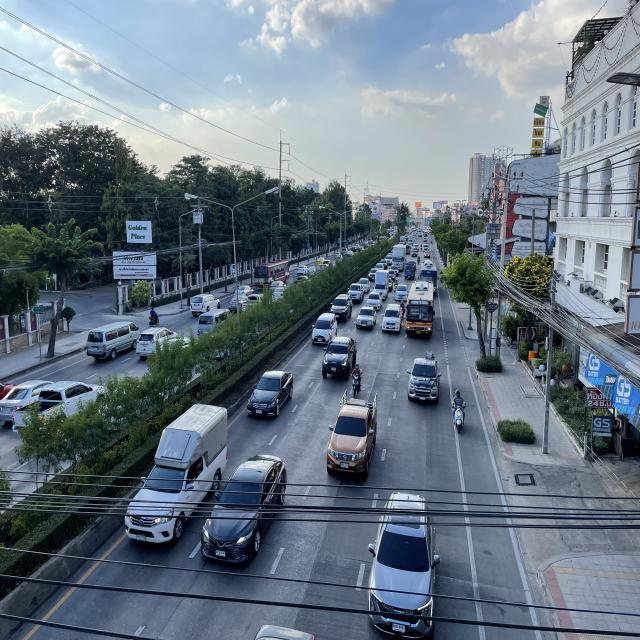bike: (451, 387, 466, 436), (349, 363, 363, 398)
bus: (405, 280, 435, 338), (418, 260, 438, 296)
car: (365, 492, 441, 640), (200, 451, 287, 567), (246, 365, 294, 420), (407, 350, 440, 406), (321, 334, 358, 379), (311, 313, 338, 344), (356, 306, 377, 330)
truck: (124, 404, 229, 548), (326, 390, 378, 483), (381, 304, 403, 334), (330, 294, 353, 322), (372, 269, 389, 301), (392, 244, 406, 271), (404, 262, 416, 280)
